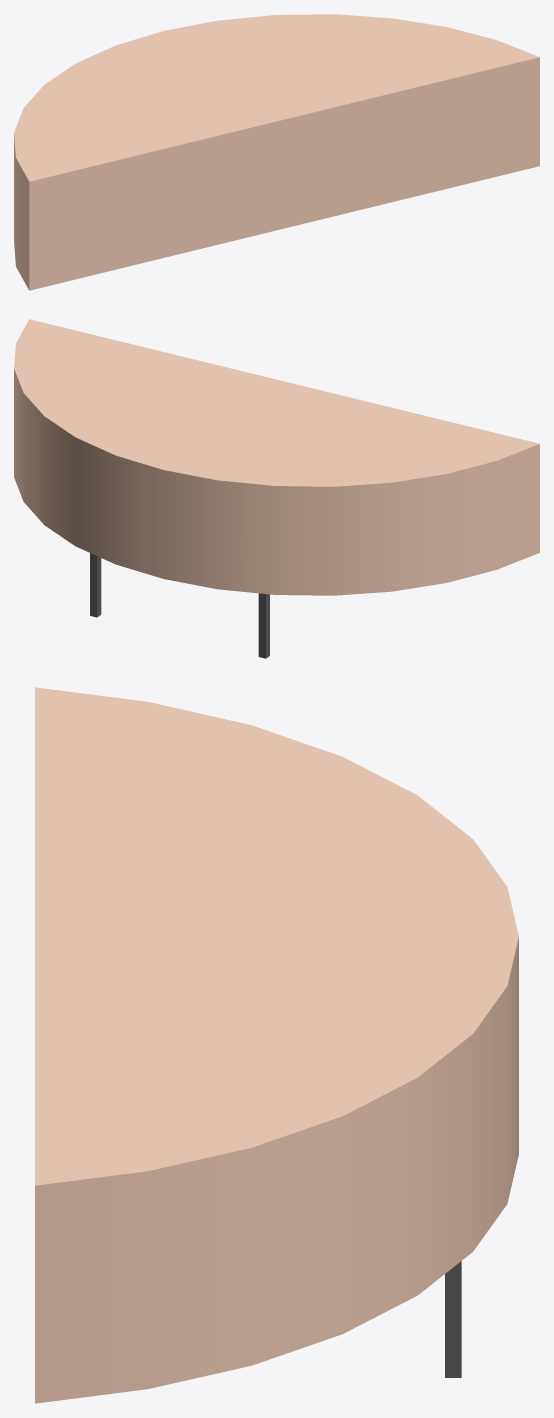
File: sofa.fbx
The picture shows the model from 3 angles, top to bottom: view 1: azimuth 30°, elevation 25°; view 2: azimuth 150°, elevation 25°; view 3: azimuth 270°, elevation 25°; orthographic projection. The views are drawn at different scales.
Parts seen in each view (by area): view 1: Cylinder; view 2: Cylinder; view 3: Cylinder.
Part boxes in pixels (bbox=[...]): Cylinder: bbox=[14, 14, 539, 290]; Cylinder: bbox=[14, 319, 539, 658]; Cylinder: bbox=[35, 687, 518, 1403].
Size of the model in its own units: 569 by 189 by 233.
Materials: 1 (1 with a texture image).
